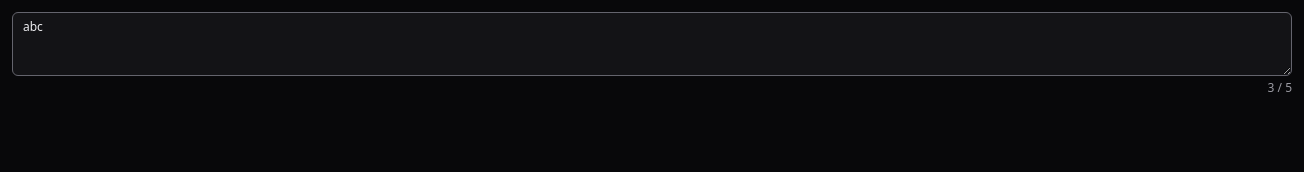
text and textarea › counts against the limit without refusing what goes past it
expect the text "3 / 5" is shown: met, box [1268, 80, 1292, 96]
Type "def" into the text box.
click(652, 44); type("def")  # box [12, 12, 1292, 76]
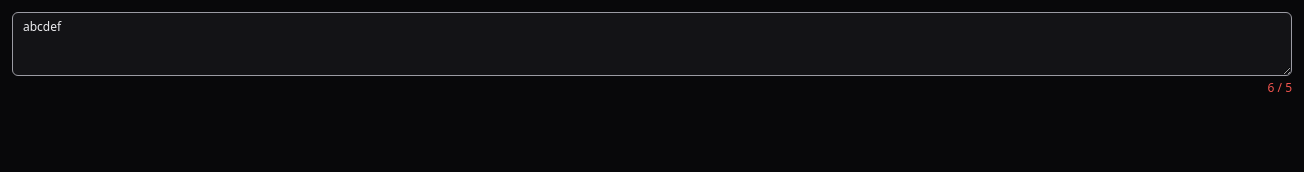
expect the text "6 / 5" has class "text-destructive": met, box [1268, 80, 1292, 96]
